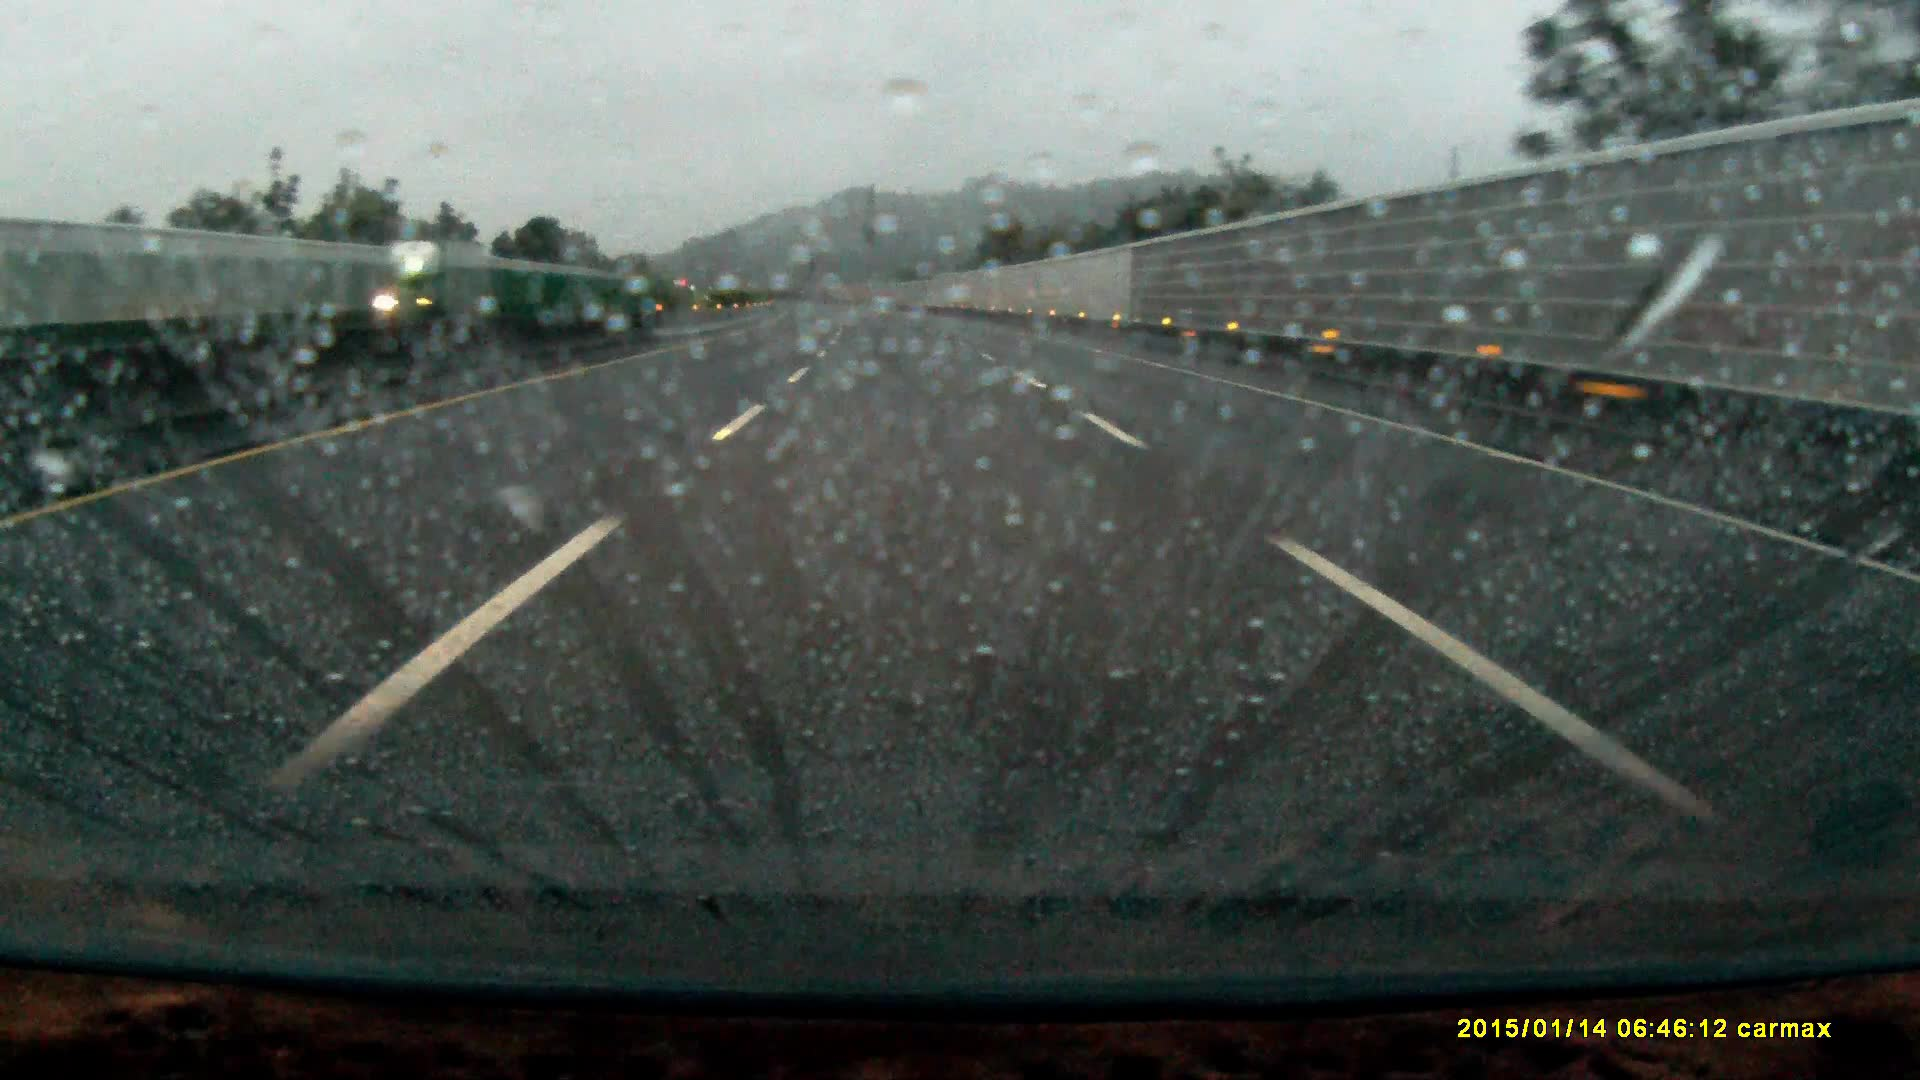vehicle: (384, 236, 481, 323)
